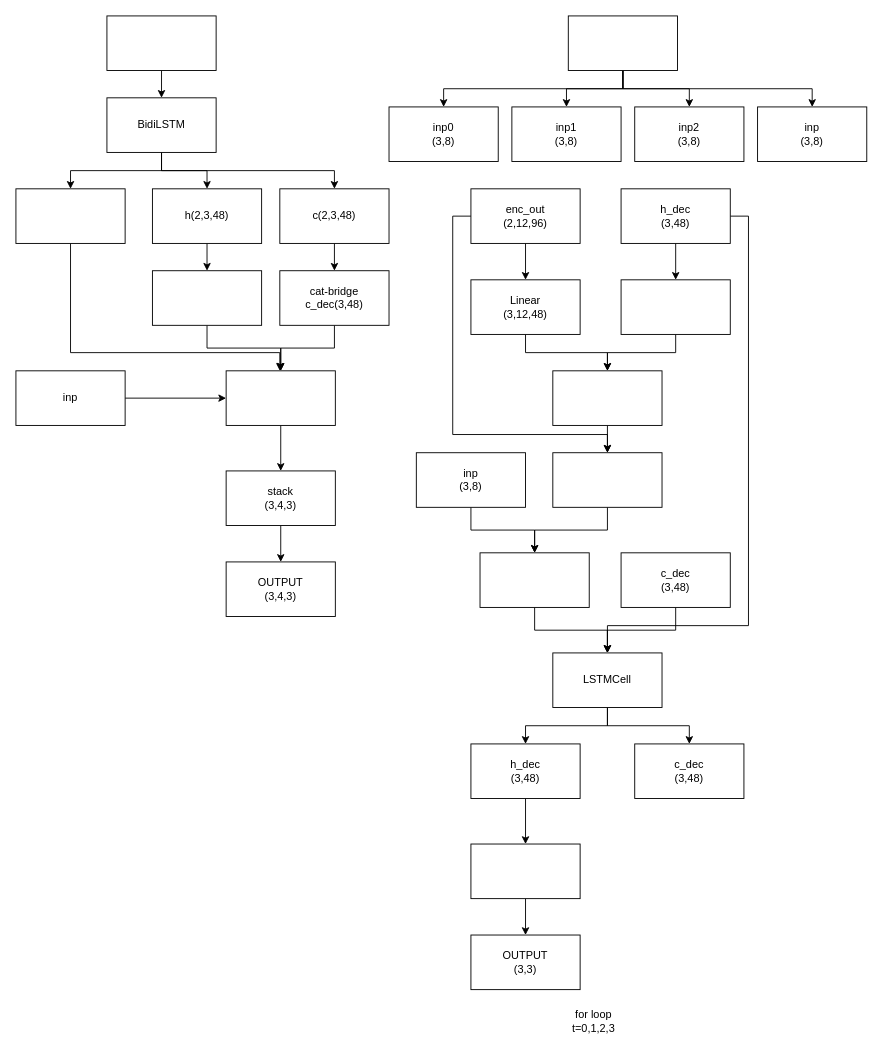
Some shapes in this 883 by 1051 pixel diagram are drawn without their labels. Here are the shapes that lost their labels. From the top down, the centre of each, then its label:
point (161, 43): src (3,12,12)
point (622, 43): tgt (3,4,8)
point (70, 215): enc_out (3,12,96)
point (207, 297): cat-bridge h_dec(3,48)
point (675, 306): Linear-unsqueeze(1) (3,1,48)
point (280, 397): for loop t=0,1,2,3 (3,3)
point (607, 397): tanh-softmax attn(3,12)
point (607, 479): attn @ enc_out ctx(3,96)
point (534, 579): cat (3,104)
point (525, 871): Linear (3,3)
